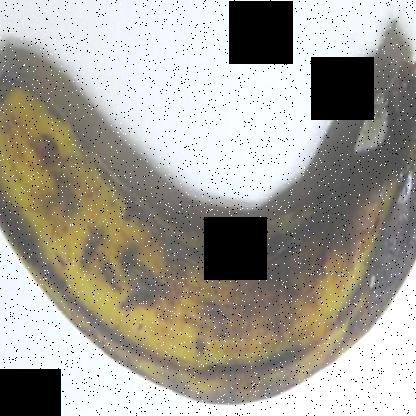overripe: (1, 8, 415, 415)
rotten: (295, 79, 415, 318)
